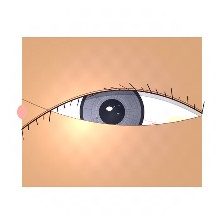pinguecula_lesion: (158, 106, 196, 137)
